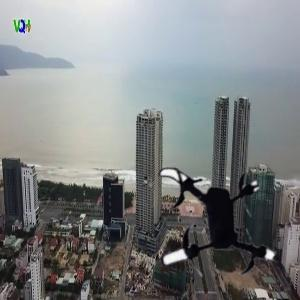drone: (135, 151, 282, 298)
